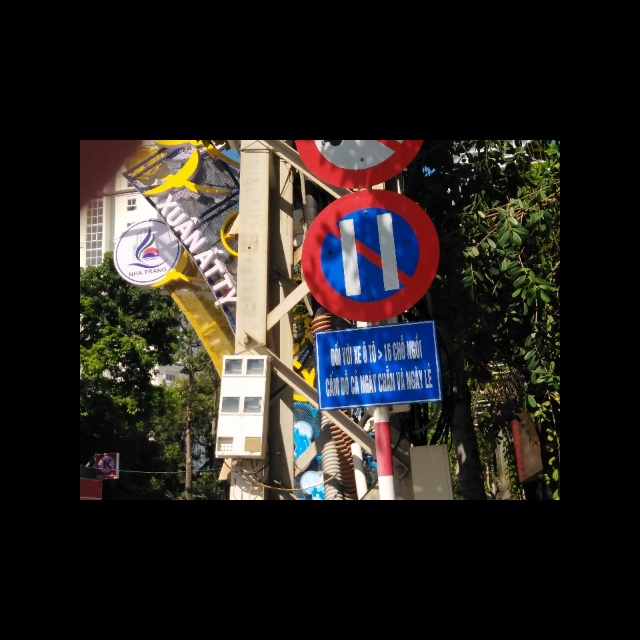Cấm đỗ xe ngày chẵn: (300, 190, 446, 321)
